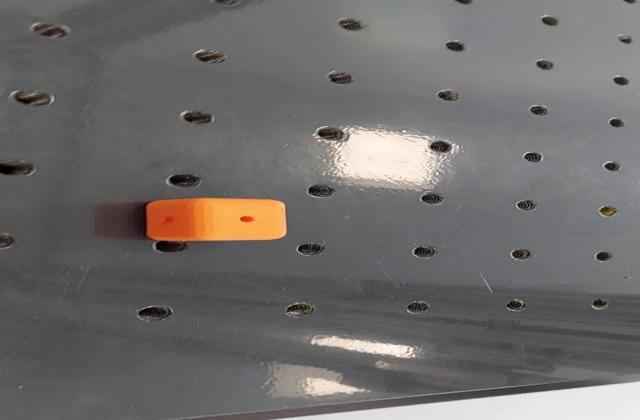cube: (138, 196, 295, 246)
